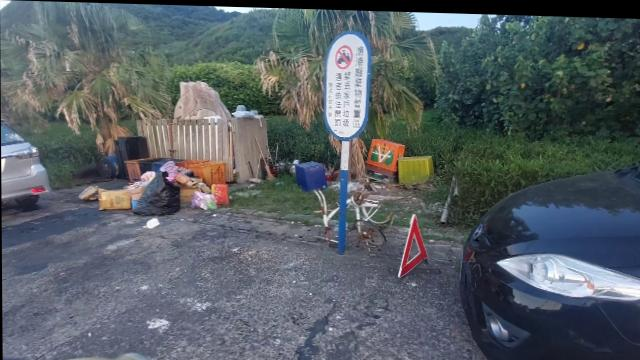pollute: (76, 154, 230, 218), (349, 137, 433, 192), (346, 191, 395, 244), (315, 187, 340, 235), (294, 157, 327, 190), (140, 217, 161, 228)
